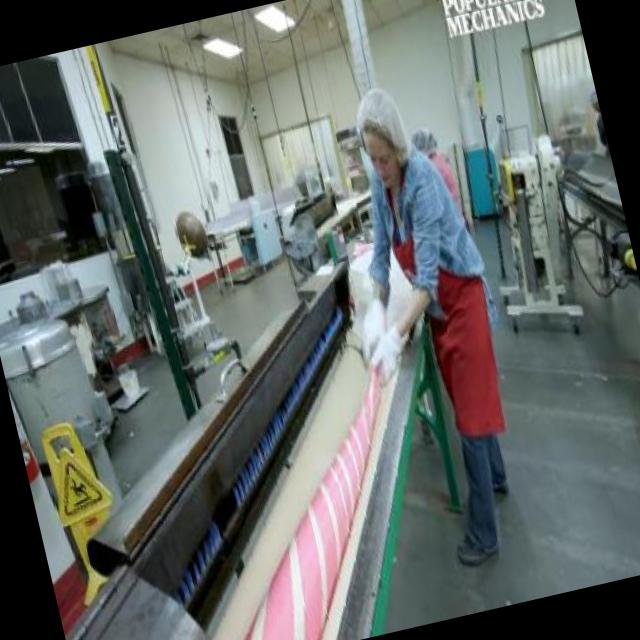hairnet: (349, 83, 408, 150)
